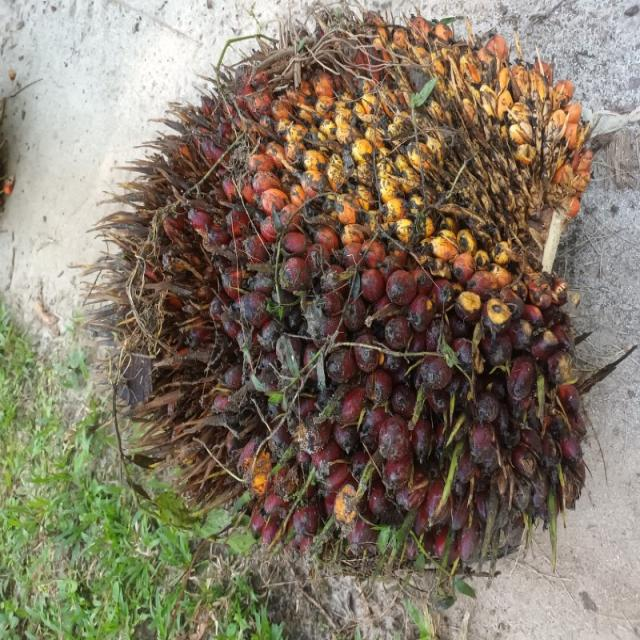fraksi 1: (29, 117, 480, 640)
